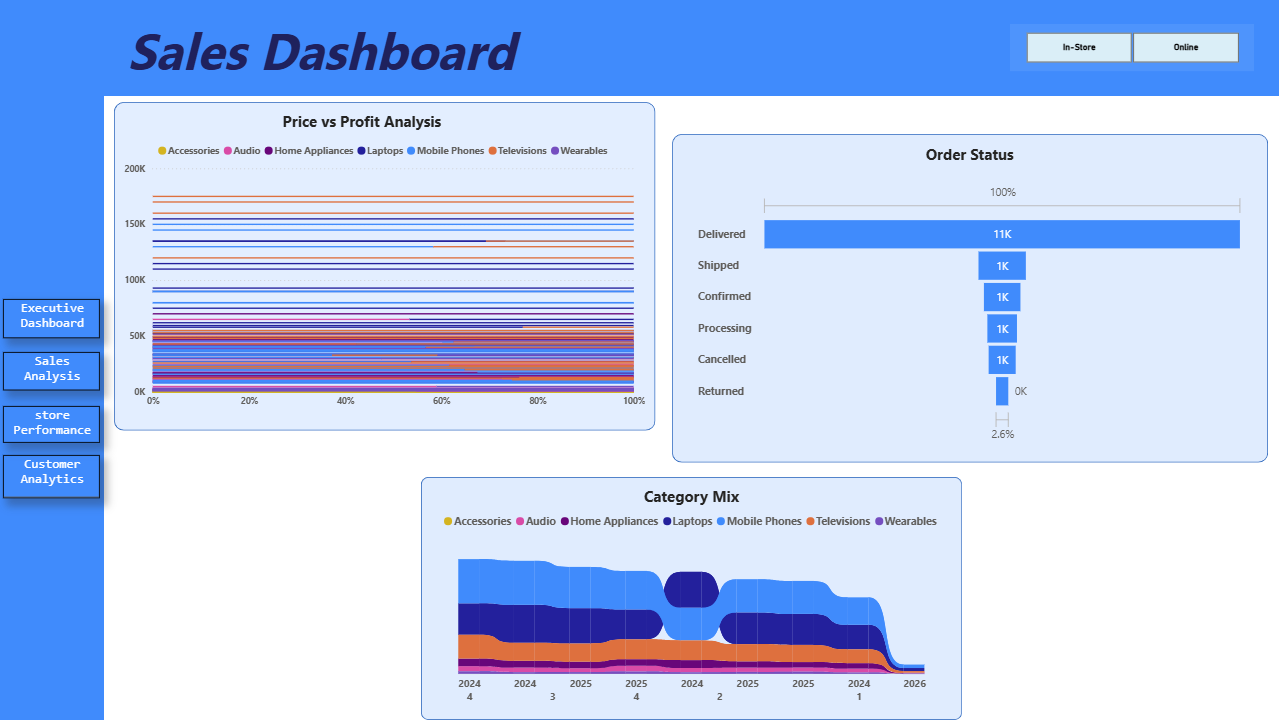

The dashboard page shown, as its layout file describes it:
{"tool":"powerbi","page":{"name":" Product Deep Dive ","canvas":[1600,900],"ordinal":4},"visuals":[{"type":"shape","box":[142.5,127.9,676.7,410.7],"z":0},{"type":"shape","box":[0,0,130,900],"z":1000},{"type":"shape","box":[130,0,1470,120],"z":2000},{"type":"card","fields":{"Values":["dim_product.Title Price vs Profit Analysis"]},"box":[291.8,140.3,322.1,28.1],"z":3000},{"type":"slicer","fields":{"Values":["dim_order.channel"]},"box":[1262.6,30.5,305,59],"z":4000},{"type":"hundredPercentStackedBarChart","fields":{"Category":["dim_product.unit_price"],"Y":["fact_sales.Profit Margin %"],"Series":["dim_product.category"]},"box":[150.4,168.3,661,350.1],"z":5000},{"type":"shape","box":[526.2,596.2,676.2,303.8],"z":6000},{"type":"card","fields":{"Values":["dim_product.title Category Mix"]},"box":[741.2,607.5,246.2,28.8],"z":7000},{"type":"shape","box":[840,167.5,745.1,410.7],"z":8000,"group":"g1"},{"type":"ribbonChart","fields":{"Category":["dim_date.quarter","dim_date.year"],"Series":["dim_product.category"],"Y":["fact_sales.Total Revenue"]},"box":[540,631.2,650,262.5],"z":8000},{"type":"card","fields":{"Values":["dim_date.Main Title"]},"box":[136.2,25,530,70],"z":9000},{"type":"funnel","fields":{"Category":["dim_order.order_status"],"Y":["fact_sales.Total Orders"]},"box":[868.1,223.6,692.4,334.4],"z":9000,"group":"g1"},{"type":"actionButton","title":"Executive Dashboard","box":[3.8,373.8,121.2,48.8],"z":10000},{"type":"card","fields":{"Values":["dim_order.Title Order Status"]},"box":[1091.4,179.8,246.9,29.2],"z":11000,"group":"g1"},{"type":"actionButton","title":"Sales Analysis","box":[3.8,440,121.2,47.5],"z":11000},{"type":"actionButton","title":"store Performance","box":[3.8,507.5,121.2,46.2],"z":12000},{"type":"actionButton","title":"Customer Analytics","box":[3.8,568.8,121.2,53.8],"z":13000},{"type":"group","id":"g1","title":"Group 1","box":[840,167.5,745,411.2],"z":14000}]}

Visuals, with their boxes on the page's 1600x900 design canvas (x1, y1, x2, y2). These are canvas units, not pixel positions in the 1279x720 screenshot, which may show the page scaled, cropped or inside an application window:
shape: (left=142, top=128, right=819, bottom=539)
shape: (left=0, top=0, right=130, bottom=900)
shape: (left=130, top=0, right=1600, bottom=120)
card - dim_product.Title Price vs Profit Analysis: (left=292, top=140, right=614, bottom=168)
slicer - dim_order.channel: (left=1263, top=30, right=1568, bottom=90)
hundredPercentStackedBarChart - dim_product.unit_price x fact_sales.Profit Margin %: (left=150, top=168, right=811, bottom=518)
shape: (left=526, top=596, right=1202, bottom=900)
card - dim_product.title Category Mix: (left=741, top=608, right=987, bottom=636)
shape: (left=840, top=168, right=1585, bottom=578)
ribbonChart - dim_date.quarter x dim_date.year: (left=540, top=631, right=1190, bottom=894)
card - dim_date.Main Title: (left=136, top=25, right=666, bottom=95)
funnel - dim_order.order_status x fact_sales.Total Orders: (left=868, top=224, right=1560, bottom=558)
"Executive Dashboard" actionButton: (left=4, top=374, right=125, bottom=423)
card - dim_order.Title Order Status: (left=1091, top=180, right=1338, bottom=209)
"Sales Analysis" actionButton: (left=4, top=440, right=125, bottom=488)
"store Performance" actionButton: (left=4, top=508, right=125, bottom=554)
"Customer Analytics" actionButton: (left=4, top=569, right=125, bottom=623)
"Group 1" group: (left=840, top=168, right=1585, bottom=579)
